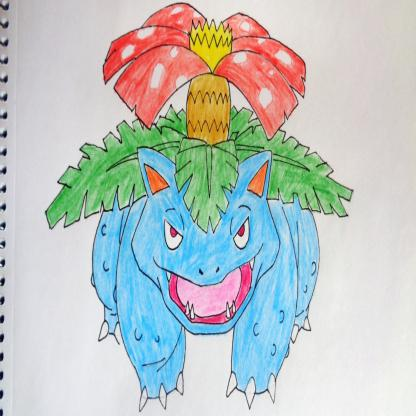Venusaur: (27, 1, 359, 416)
